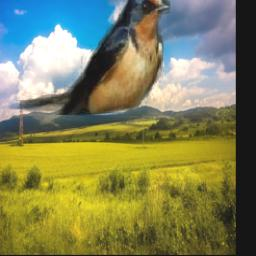Swallow: (18, 0, 171, 116)
